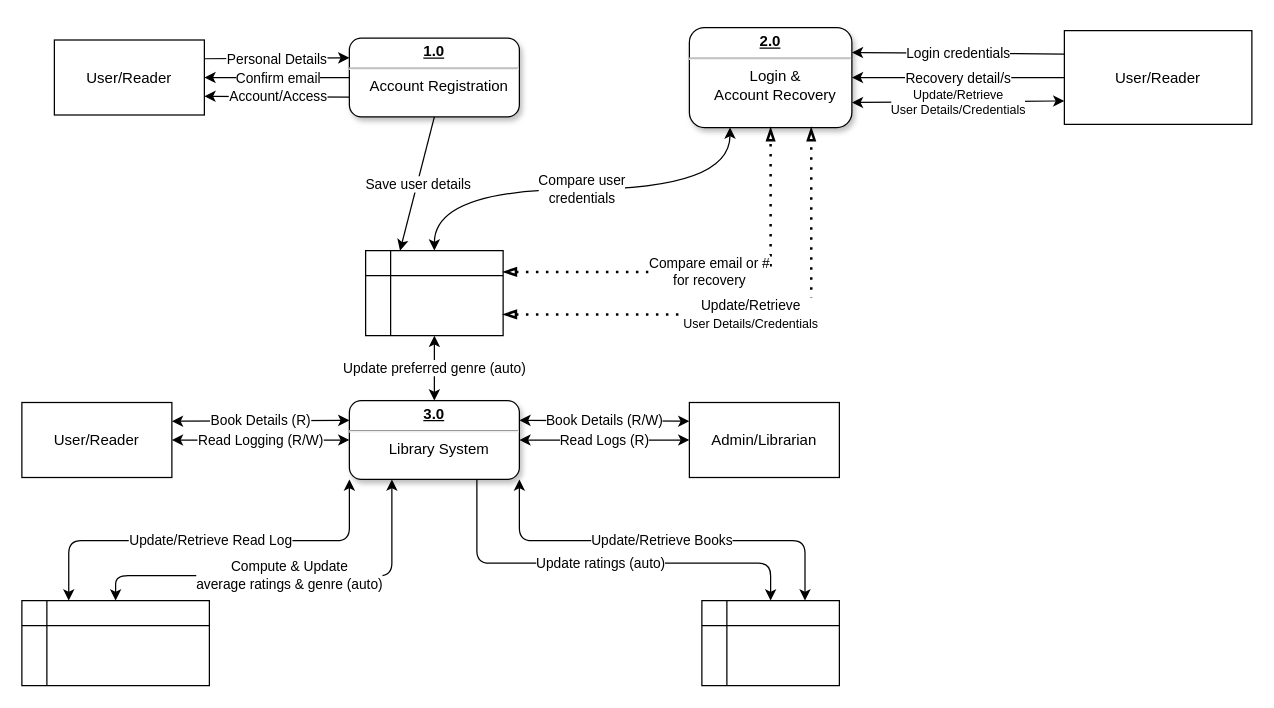
Image size: 1274x708. Some labels were removed from this diagram. The centre of each missing label's shape, as x and y in pixels:
"book_read_log DB" belongs at pixel 115 642.
"Books DB" belongs at pixel 770 642.
"USR DB" belongs at pixel 433 292.
